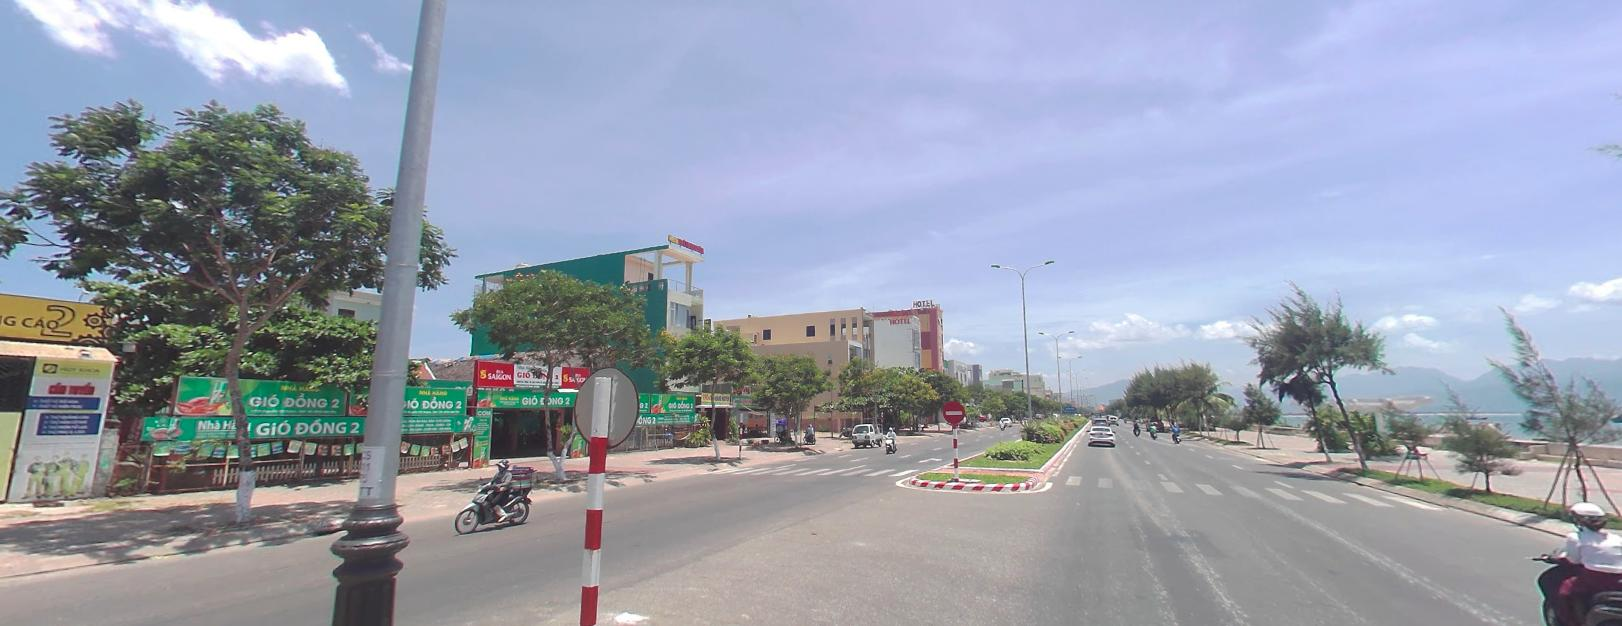Cam nguoc chieu: (942, 399, 965, 422)
